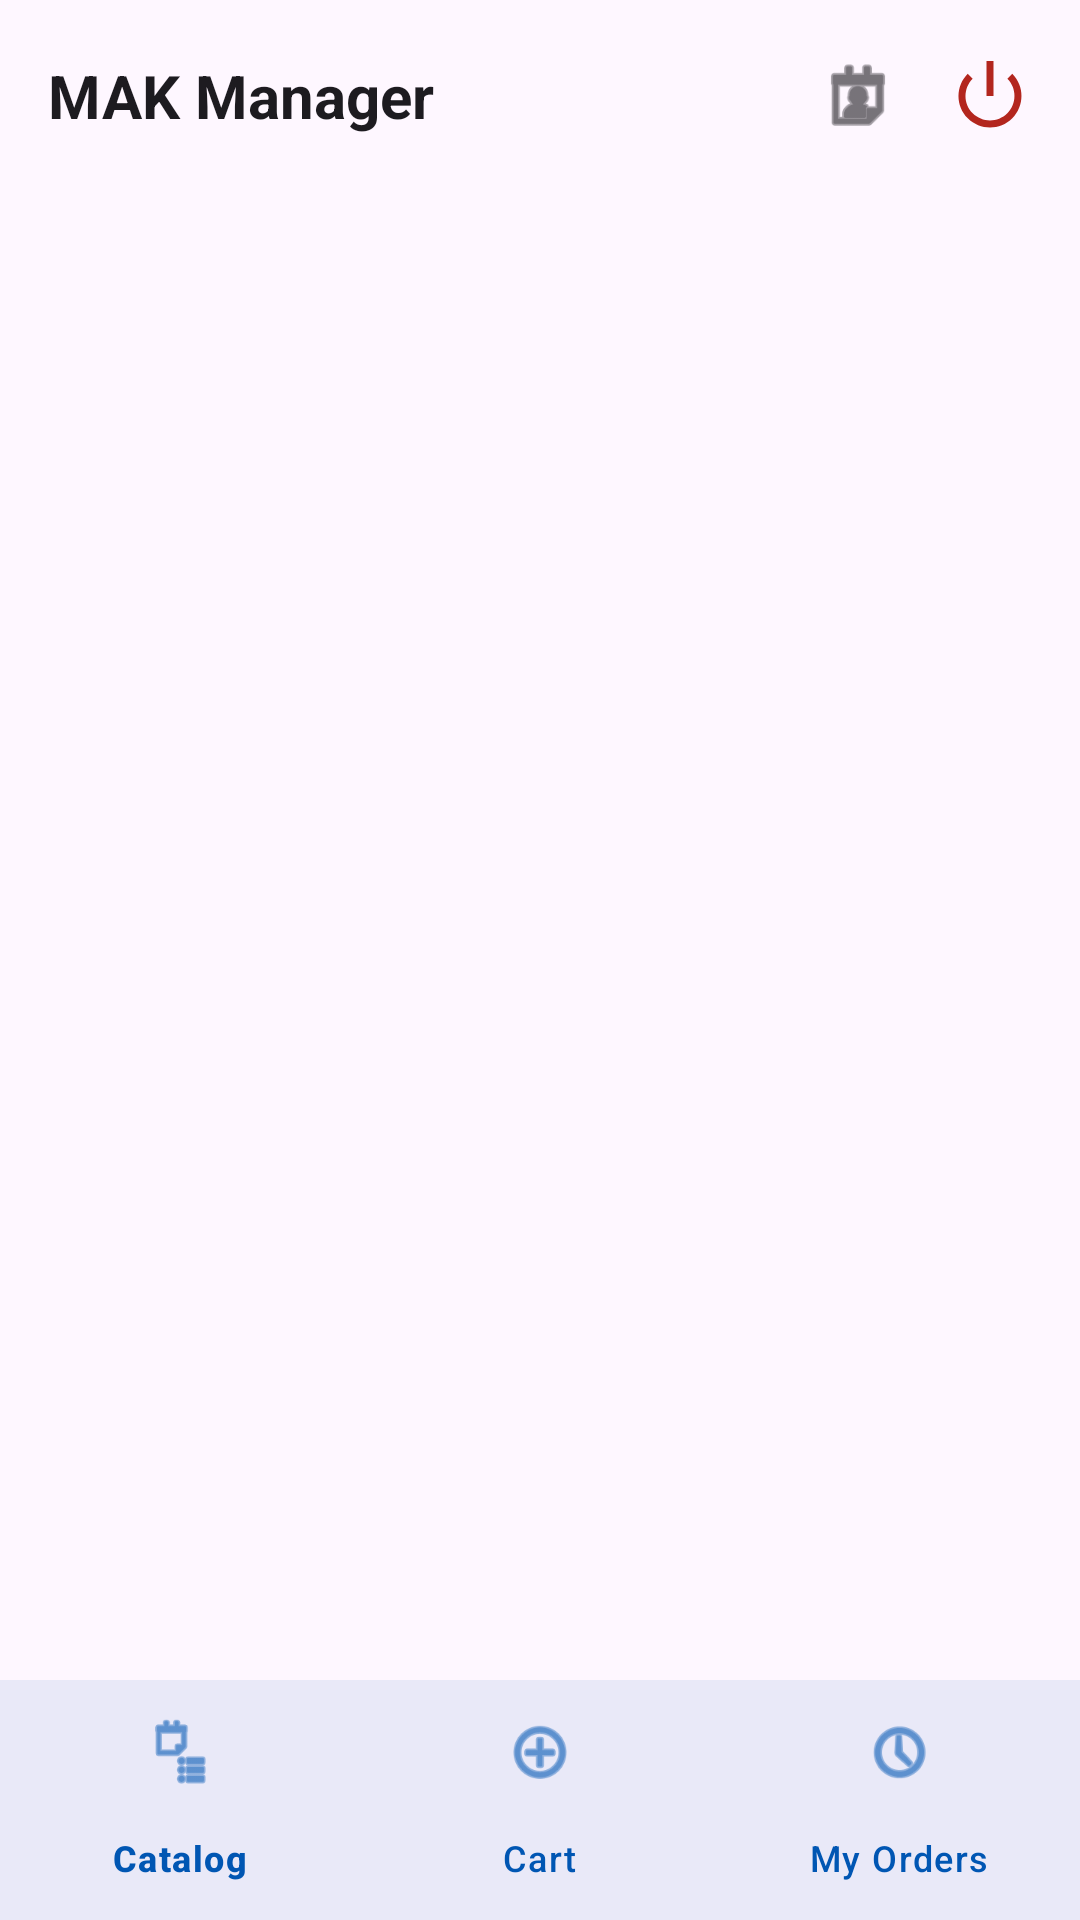

Icon click points for this 1080 x 1920 phone screenshot, format [x,y]:
calendar: [858,95]
lock power off: [990,94]
